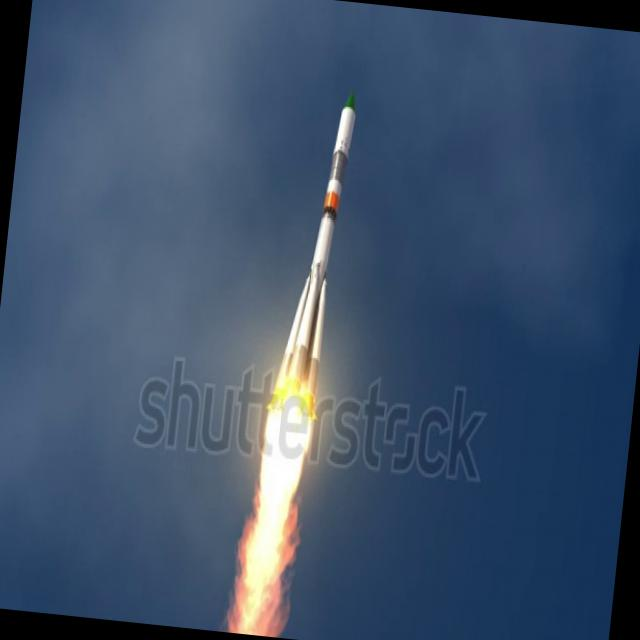rocket: (247, 86, 365, 576)
